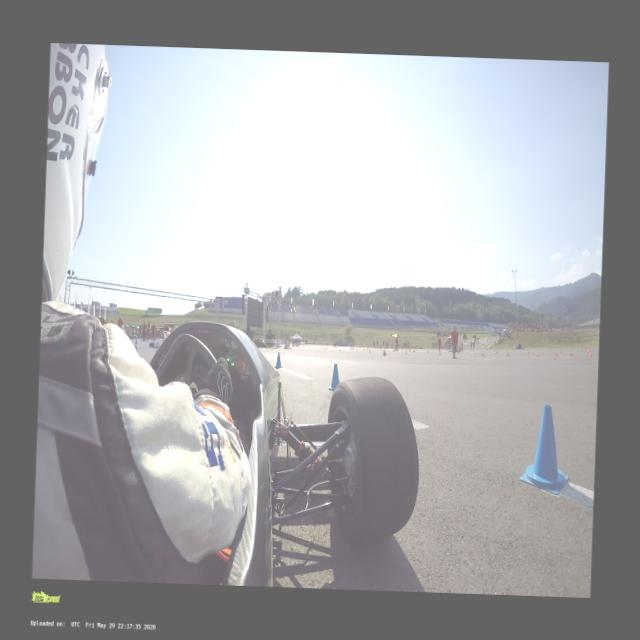blue_cone: (518, 403, 573, 496), (328, 362, 339, 390), (273, 352, 283, 369)
orange_cone: (568, 350, 572, 356), (558, 348, 562, 353), (588, 351, 592, 356), (535, 351, 538, 356), (554, 350, 556, 356), (506, 350, 508, 356), (482, 350, 484, 356), (496, 348, 498, 354), (526, 349, 528, 354), (586, 348, 588, 352), (404, 350, 406, 354)
